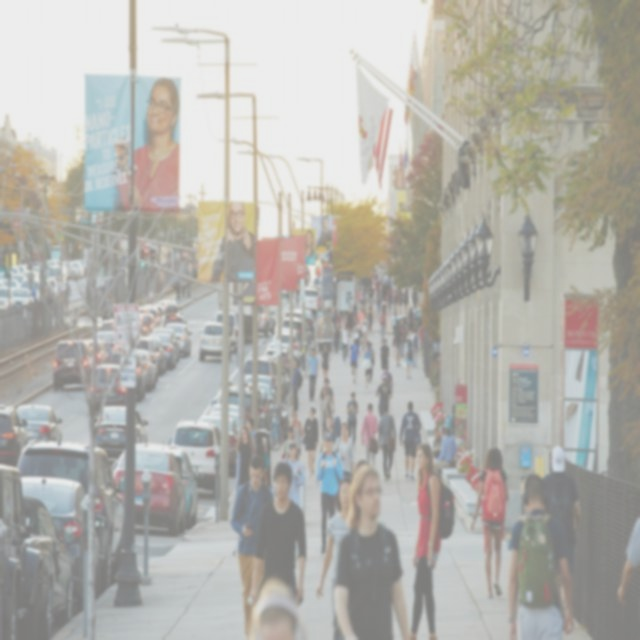pessoa: (332, 463, 412, 639), (507, 471, 576, 638), (110, 75, 180, 213), (246, 460, 308, 610), (230, 453, 274, 639), (538, 444, 582, 606), (408, 442, 442, 639), (468, 444, 509, 600), (314, 476, 352, 633), (206, 200, 255, 278), (314, 431, 344, 556), (248, 575, 306, 639), (614, 513, 640, 613), (398, 400, 422, 482), (282, 440, 306, 508), (377, 402, 397, 482), (234, 424, 255, 496), (332, 421, 356, 482), (314, 216, 334, 286), (301, 405, 320, 478), (360, 402, 380, 467), (43, 270, 72, 314), (432, 424, 454, 480), (432, 426, 454, 478), (356, 266, 394, 292), (392, 306, 420, 336), (376, 374, 394, 418), (305, 346, 319, 402), (290, 358, 304, 414), (346, 390, 359, 450), (318, 386, 332, 440), (280, 426, 300, 460), (319, 376, 336, 414), (289, 411, 303, 456), (362, 340, 374, 390), (348, 336, 360, 384), (296, 318, 316, 346), (338, 320, 350, 366), (391, 322, 403, 368), (358, 311, 371, 352), (404, 337, 416, 380), (319, 343, 332, 380), (442, 403, 456, 437), (379, 337, 391, 373), (302, 228, 314, 264), (410, 326, 420, 368), (432, 425, 444, 460), (344, 304, 356, 338), (320, 414, 334, 442), (380, 363, 393, 392), (18, 254, 44, 268), (378, 308, 387, 346), (353, 316, 363, 349), (330, 413, 341, 442), (369, 340, 376, 383), (253, 430, 264, 457), (332, 325, 342, 354), (246, 416, 256, 442), (292, 278, 302, 304), (366, 302, 374, 334), (354, 456, 370, 472), (351, 302, 358, 336), (367, 282, 375, 310), (386, 286, 394, 314), (396, 286, 404, 314), (402, 286, 410, 314), (30, 280, 40, 302), (355, 282, 364, 306), (174, 274, 182, 300), (411, 286, 419, 312), (380, 296, 390, 316), (381, 278, 388, 306), (104, 301, 112, 324), (376, 288, 382, 318), (374, 276, 381, 300), (105, 292, 114, 310), (356, 305, 364, 325), (390, 310, 398, 330), (332, 306, 338, 330), (179, 281, 188, 297), (329, 298, 338, 314), (58, 252, 72, 262), (190, 261, 198, 277), (148, 286, 155, 303), (394, 288, 399, 310), (405, 328, 413, 339), (112, 299, 116, 320)
